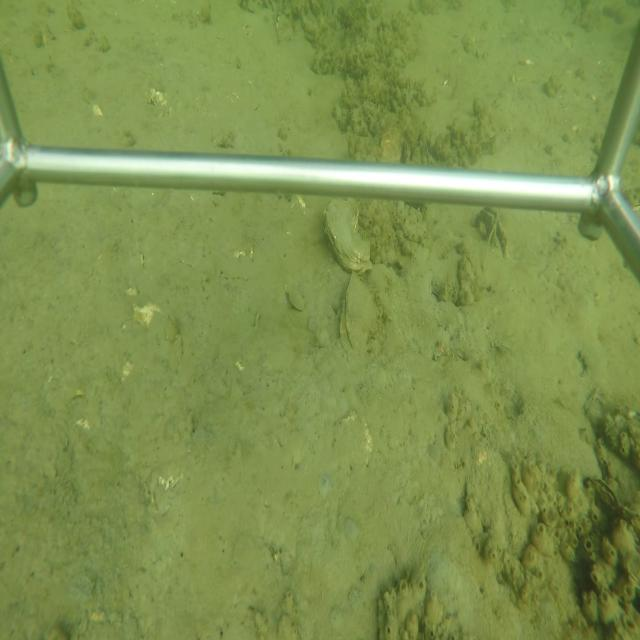Oyster-Closed: (322, 196, 374, 275), (339, 276, 385, 362), (583, 474, 636, 524)
Oyster-Open: (469, 206, 511, 269)
